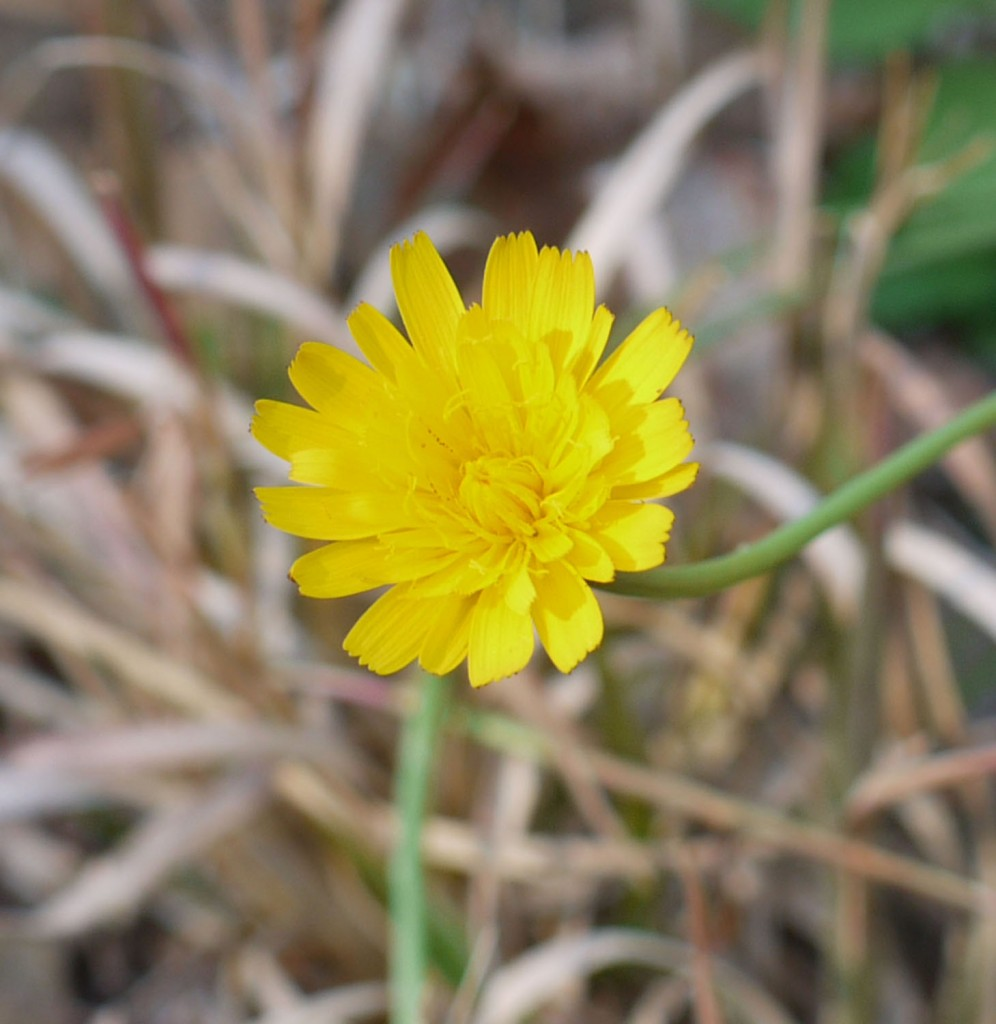dandelion: (253, 283, 741, 695)
